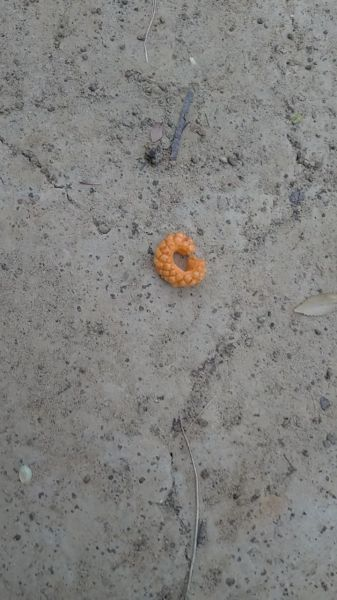eggs: (156, 231, 208, 293)
